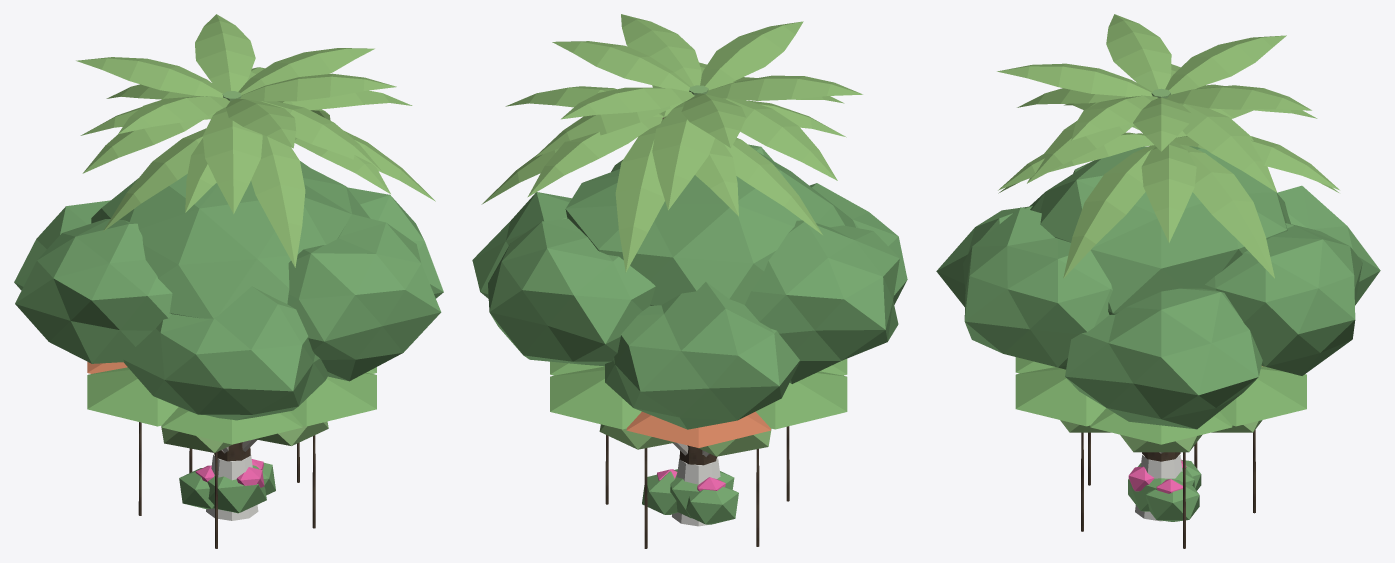
The model's file is flora_kit.glb.
3 views of the same model, side by side, from view 1: azimuth 30°, elevation 25°; view 2: azimuth 150°, elevation 25°; view 3: azimuth 270°, elevation 25° (orthographic). The views are drawn at different scales.
Visible parts, largest first — view 1: flora_banyan, flora_royal_palm, flora_coconut_palm, flora_terminalia, flora_bougainvillea, flora_frangipani; view 2: flora_banyan, flora_royal_palm, flora_coconut_palm, flora_terminalia, flora_bougainvillea, flora_frangipani; view 3: flora_banyan, flora_royal_palm, flora_coconut_palm, flora_terminalia, flora_bougainvillea, flora_frangipani.
Boxes of the visible parts, x1,y1,x2,y2 form: flora_banyan: (14, 161, 443, 548); flora_royal_palm: (76, 14, 396, 213); flora_coconut_palm: (80, 90, 435, 267); flora_terminalia: (87, 362, 376, 444); flora_bougainvillea: (179, 459, 275, 513); flora_frangipani: (161, 421, 328, 453); flora_banyan: (472, 144, 907, 548); flora_royal_palm: (534, 14, 862, 210); flora_coconut_palm: (481, 85, 846, 272); flora_terminalia: (550, 359, 847, 447); flora_bougainvillea: (642, 469, 738, 524); flora_frangipani: (599, 424, 771, 456); flora_banyan: (936, 146, 1380, 548); flora_royal_palm: (997, 14, 1317, 192); flora_coconut_palm: (998, 102, 1339, 278); flora_terminalia: (1015, 357, 1306, 444); flora_bougainvillea: (1128, 459, 1201, 521); flora_frangipani: (1060, 420, 1262, 453).
Size of the model in its own units: 10.09 by 10.52 by 9.6.
11 materials, 1 textured.
